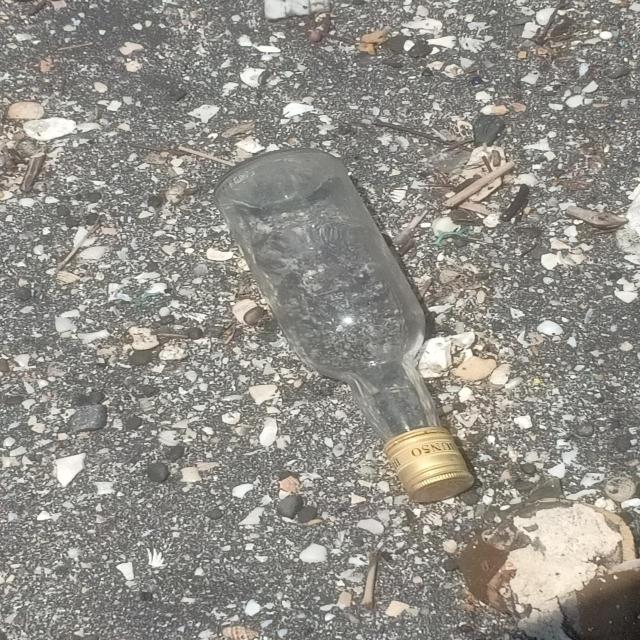glass_waste: (211, 147, 480, 507)
